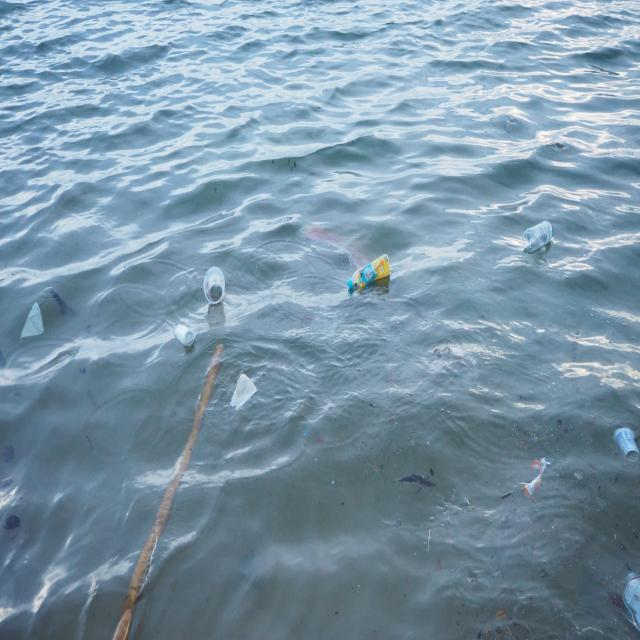plastic: (344, 252, 393, 293), (522, 220, 554, 251)
plastic bottle: (200, 263, 235, 306), (610, 422, 640, 467)
unknow: (302, 215, 365, 267), (226, 368, 260, 419), (16, 297, 50, 345), (615, 559, 640, 622), (522, 451, 549, 490), (170, 322, 194, 348)
